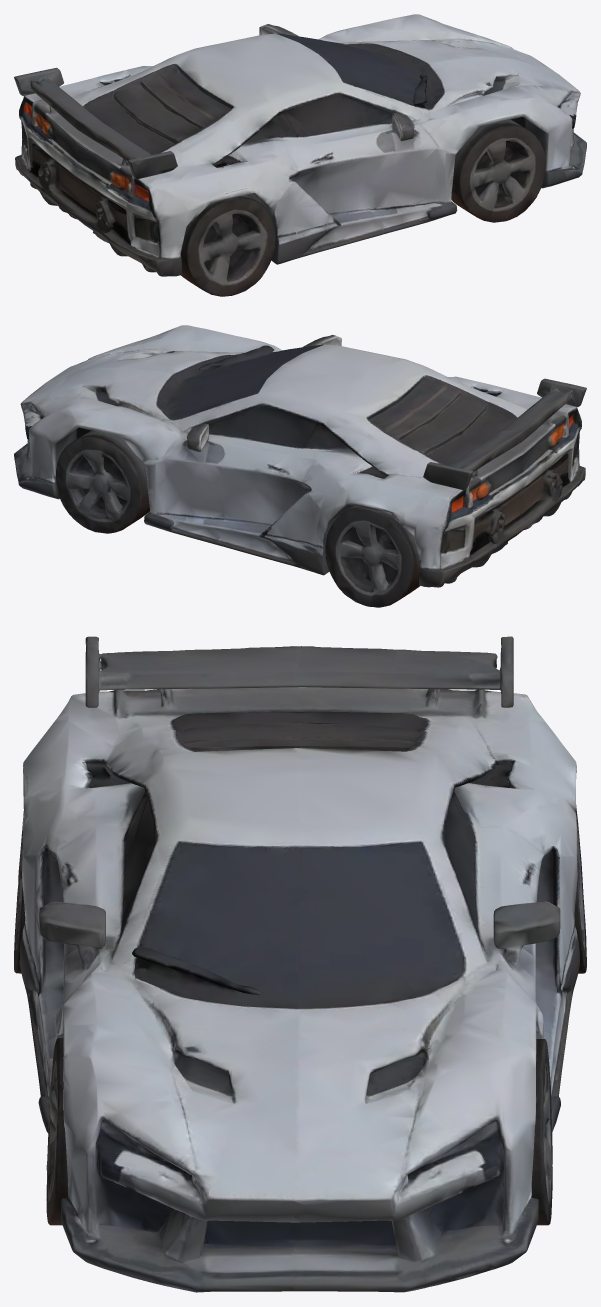
The model's file is sports_car.glb.
The picture shows the model from 3 angles, top to bottom: view 1: azimuth 30°, elevation 25°; view 2: azimuth 150°, elevation 25°; view 3: azimuth 270°, elevation 25°; orthographic projection. The views are drawn at different scales.
Parts seen in each view (by area): view 1: tripo_node_1ec7c77b-0a9f-45ac-83ac-89dcb1249304; view 2: tripo_node_1ec7c77b-0a9f-45ac-83ac-89dcb1249304; view 3: tripo_node_1ec7c77b-0a9f-45ac-83ac-89dcb1249304.
Part boxes in pixels (x1=…): tripo_node_1ec7c77b-0a9f-45ac-83ac-89dcb1249304: x1=14, y1=14, x2=586, y2=296; tripo_node_1ec7c77b-0a9f-45ac-83ac-89dcb1249304: x1=14, y1=325, x2=586, y2=607; tripo_node_1ec7c77b-0a9f-45ac-83ac-89dcb1249304: x1=14, y1=636, x2=586, y2=1292.
Size of the model in its own units: 0.9998 by 0.2954 by 0.5577.
1 material, 1 textured.
